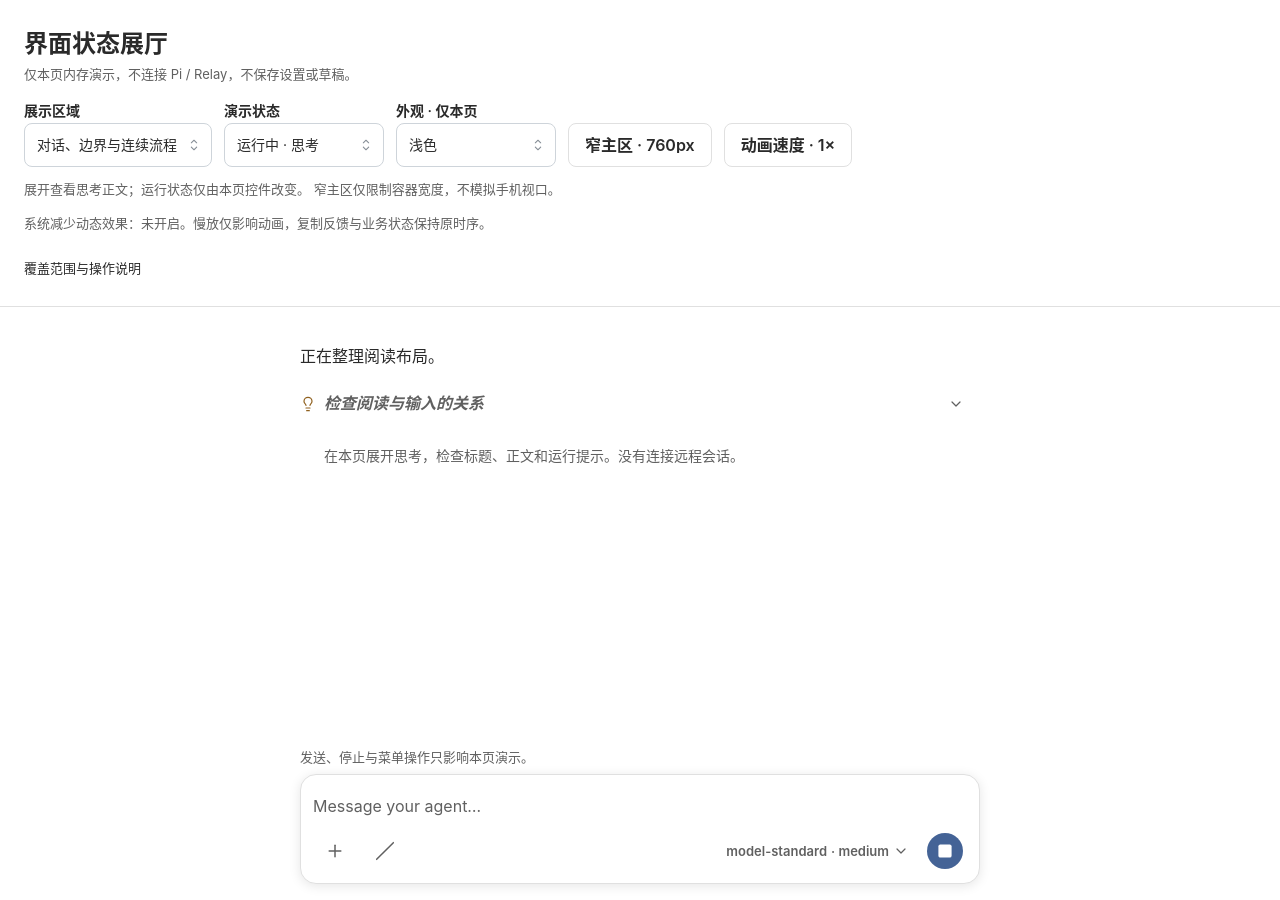
Test: model failure preserves menu context and its real retry switches to successful models
The image size is (1280, 900).
Select "模型加载失败" in the dropdown labelled "演示状态" at (304, 145), box 224,123 -> 384,167
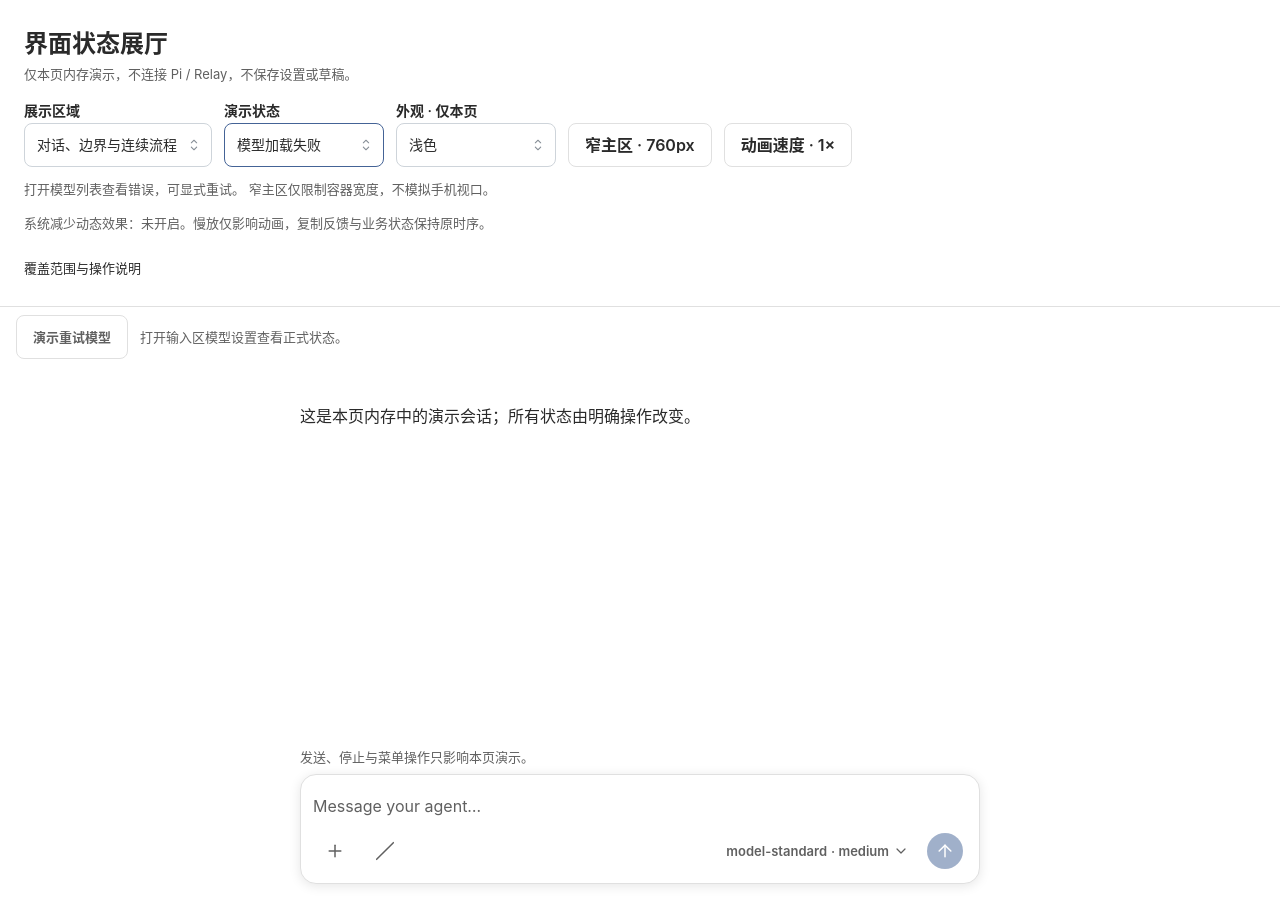
Click the button "model-standard · medium" at (818, 851), box 718,829 -> 917,873
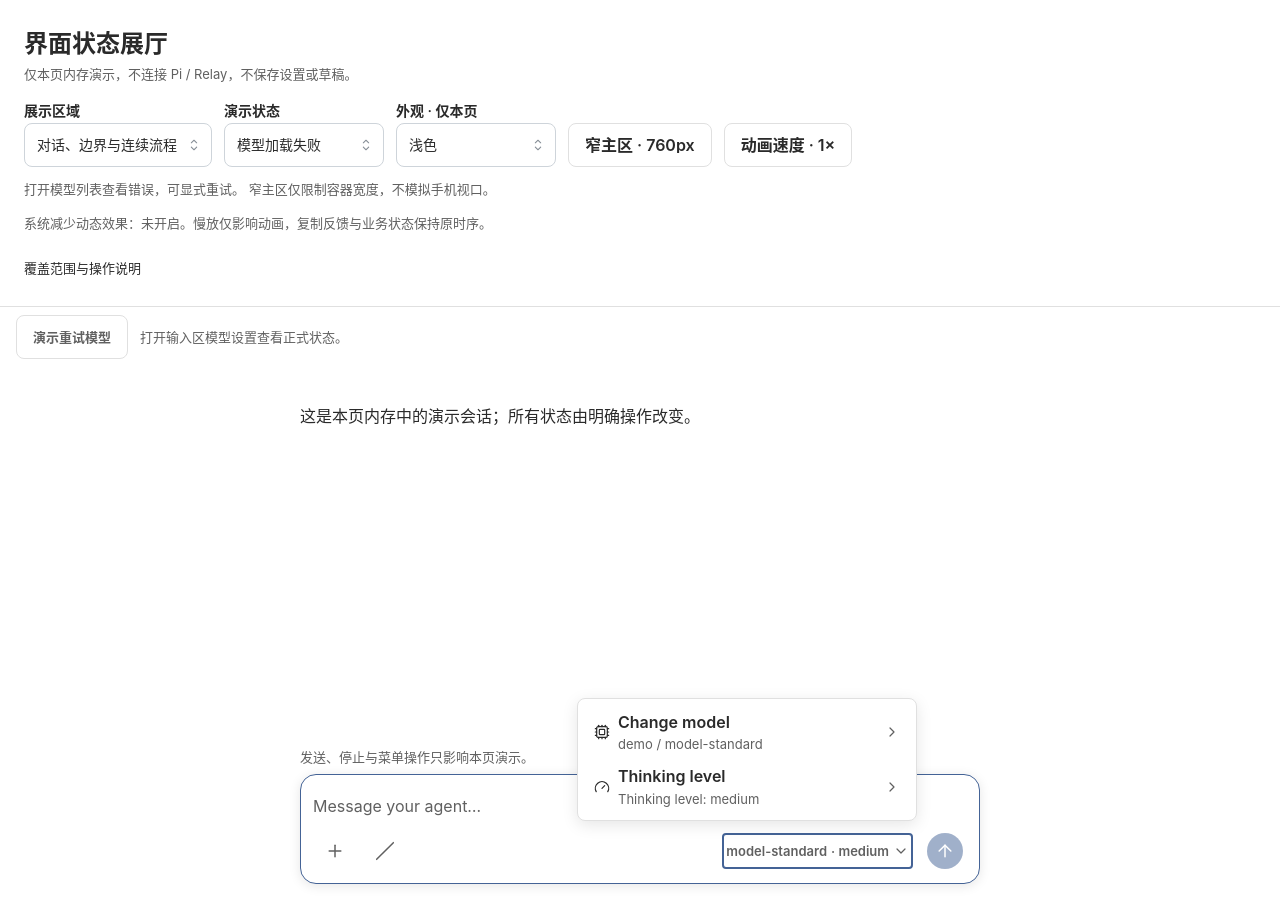
Result: the menu item "Change model demo / model-standard" is shown
Click the menu item "Change model demo / model-standard" at (674, 722), box 584,705 -> 910,759
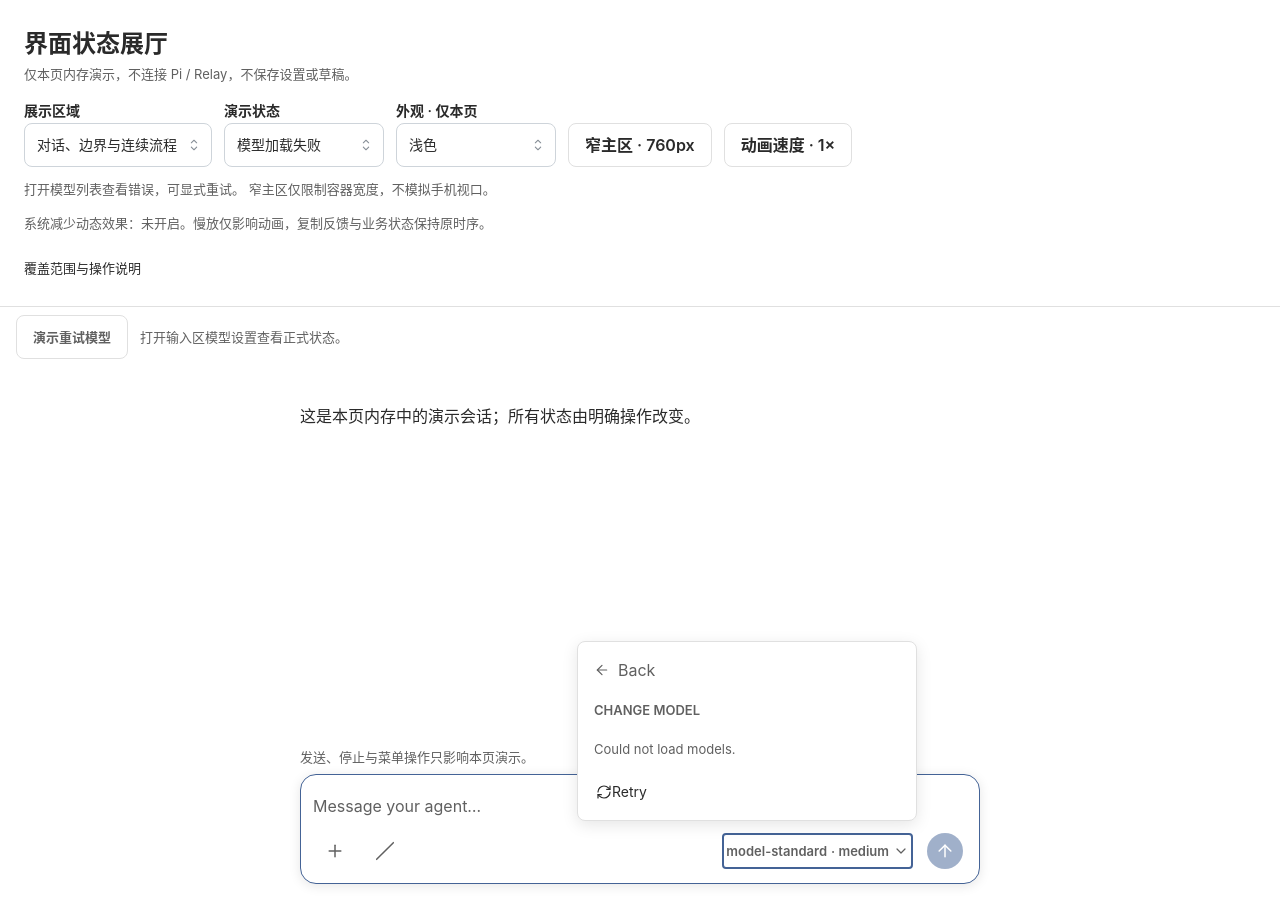
Result: the message "Could not load models." is shown at 594,741 -> 736,757
Click the menu item "Retry" at (629, 792), box 584,770 -> 910,814
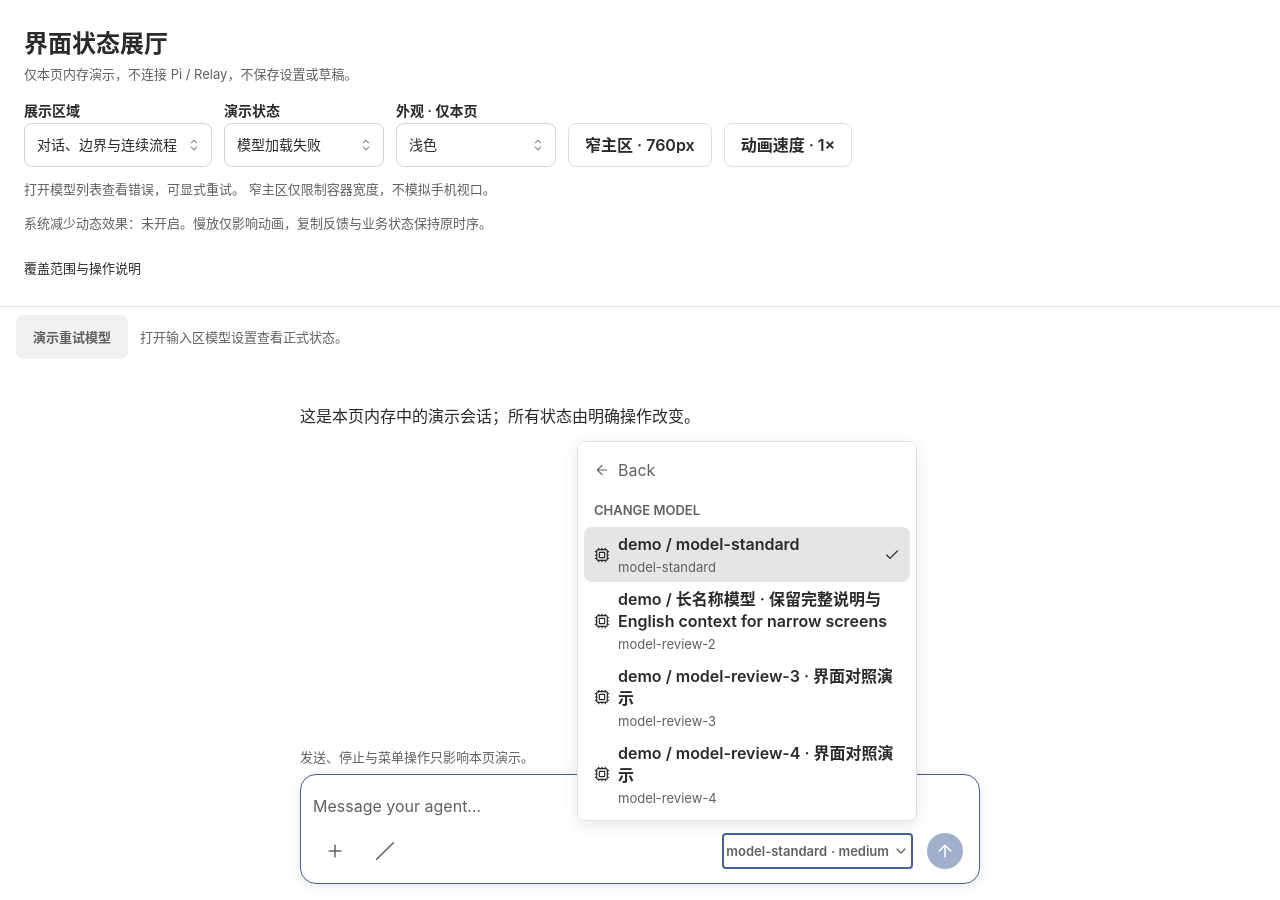
Press Escape
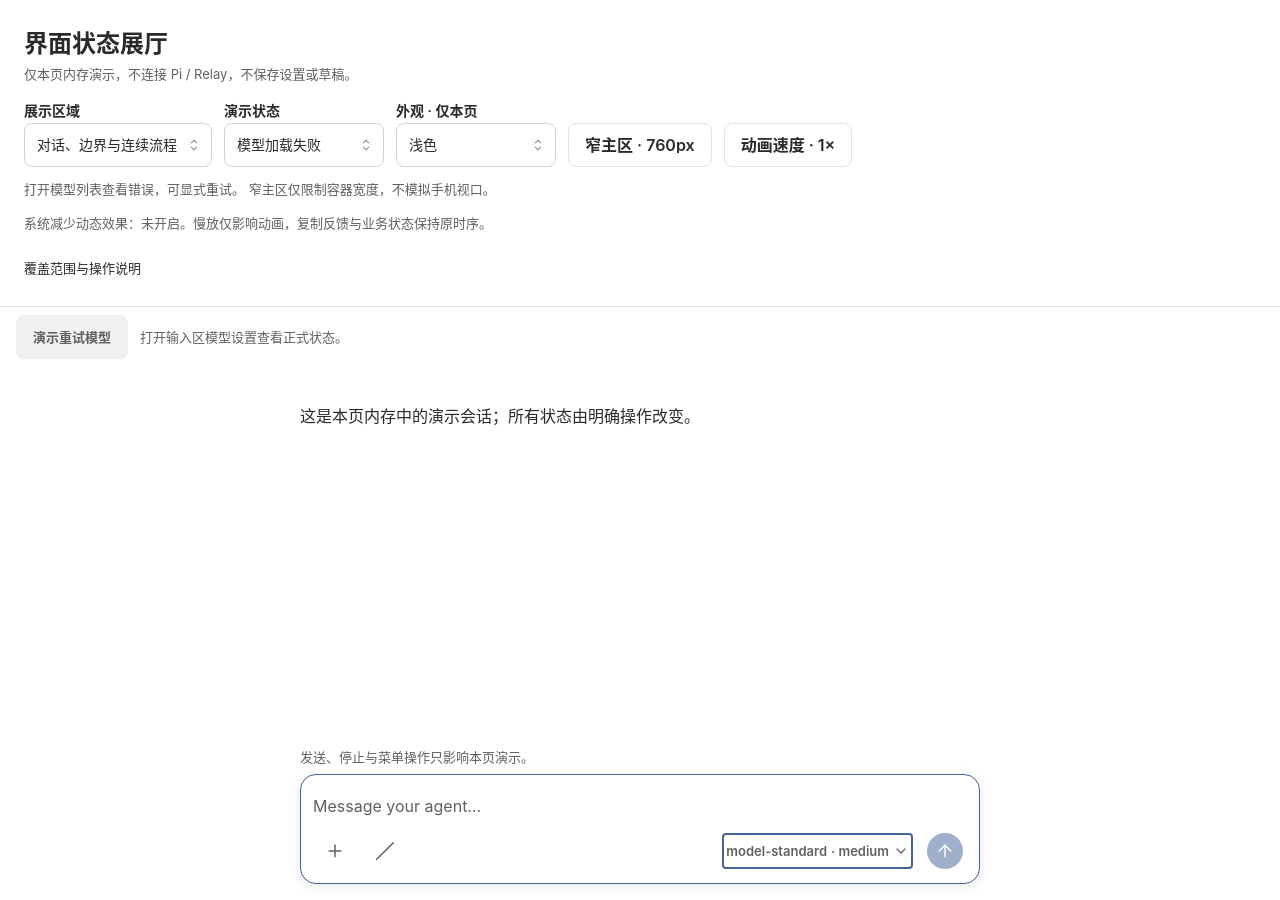
Result: the menu is gone
